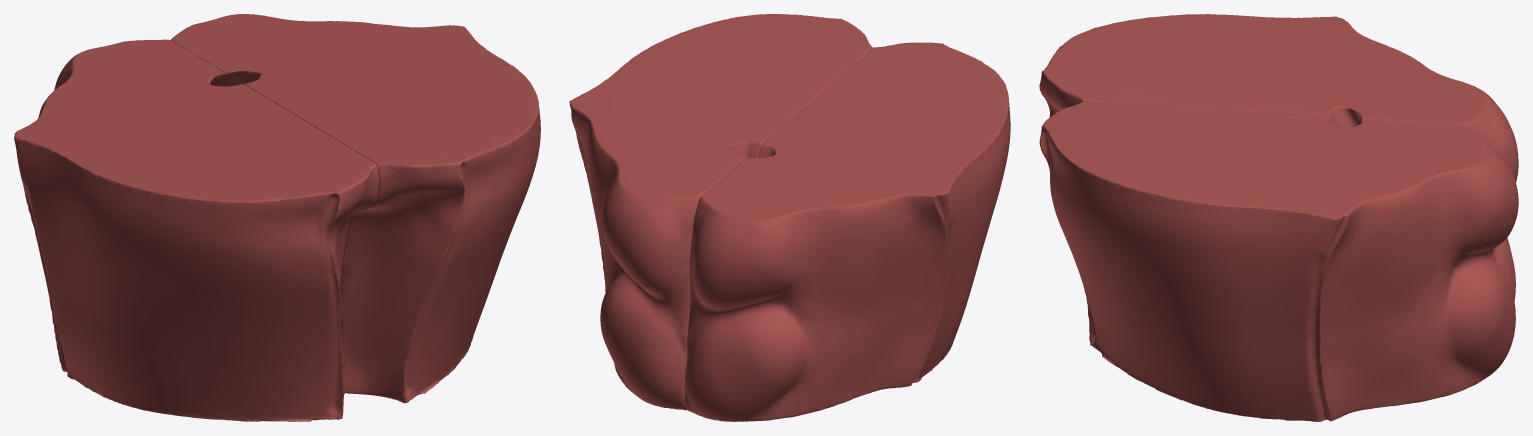
File: FMA61993nsn.glb
3 views of the same model, side by side, from view 1: azimuth 30°, elevation 25°; view 2: azimuth 150°, elevation 25°; view 3: azimuth 270°, elevation 25° (orthographic). The views are drawn at different scales.
Parts seen in each view (by area): view 1: FMA61993nsn; view 2: FMA61993nsn; view 3: FMA61993nsn.
Boxes of the visible parts, x1=… form: FMA61993nsn: x1=14, y1=14, x2=540, y2=421; FMA61993nsn: x1=569, y1=14, x2=1010, y2=421; FMA61993nsn: x1=1039, y1=14, x2=1518, y2=421.
Size of the model in its own units: 0.0277 by 0.0161 by 0.0277.
